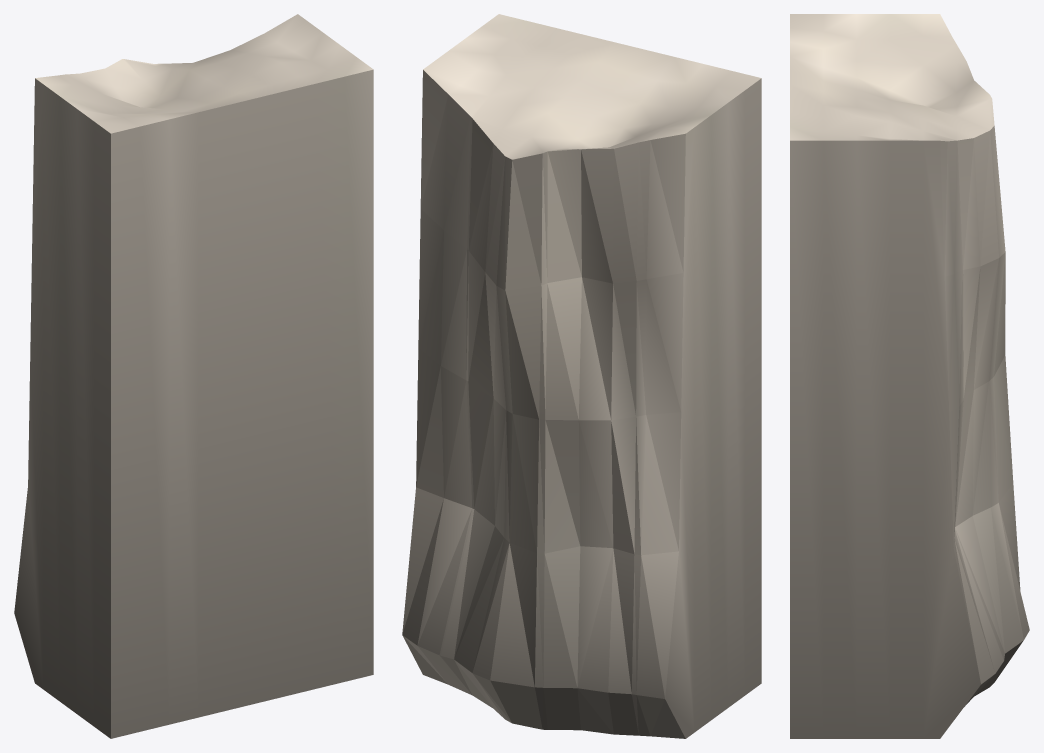
The model's file is SM_VKI_Rock_Cave_FFOO_B.fbx.
3 views of the same model, side by side, from view 1: azimuth 30°, elevation 25°; view 2: azimuth 150°, elevation 25°; view 3: azimuth 270°, elevation 25° (orthographic).
Parts seen in each view (by area): view 1: SM_VKI_Rock_Cave_FFOO_B.001; view 2: SM_VKI_Rock_Cave_FFOO_B.001; view 3: SM_VKI_Rock_Cave_FFOO_B.001.
Boxes of the visible parts, left/top/right/bottom form: SM_VKI_Rock_Cave_FFOO_B.001: left=14, top=14, right=373, bottom=738; SM_VKI_Rock_Cave_FFOO_B.001: left=402, top=14, right=761, bottom=738; SM_VKI_Rock_Cave_FFOO_B.001: left=790, top=14, right=1029, bottom=738.
Bounding box in the file's own units: 1.5 × 3.3 × 1.2.
